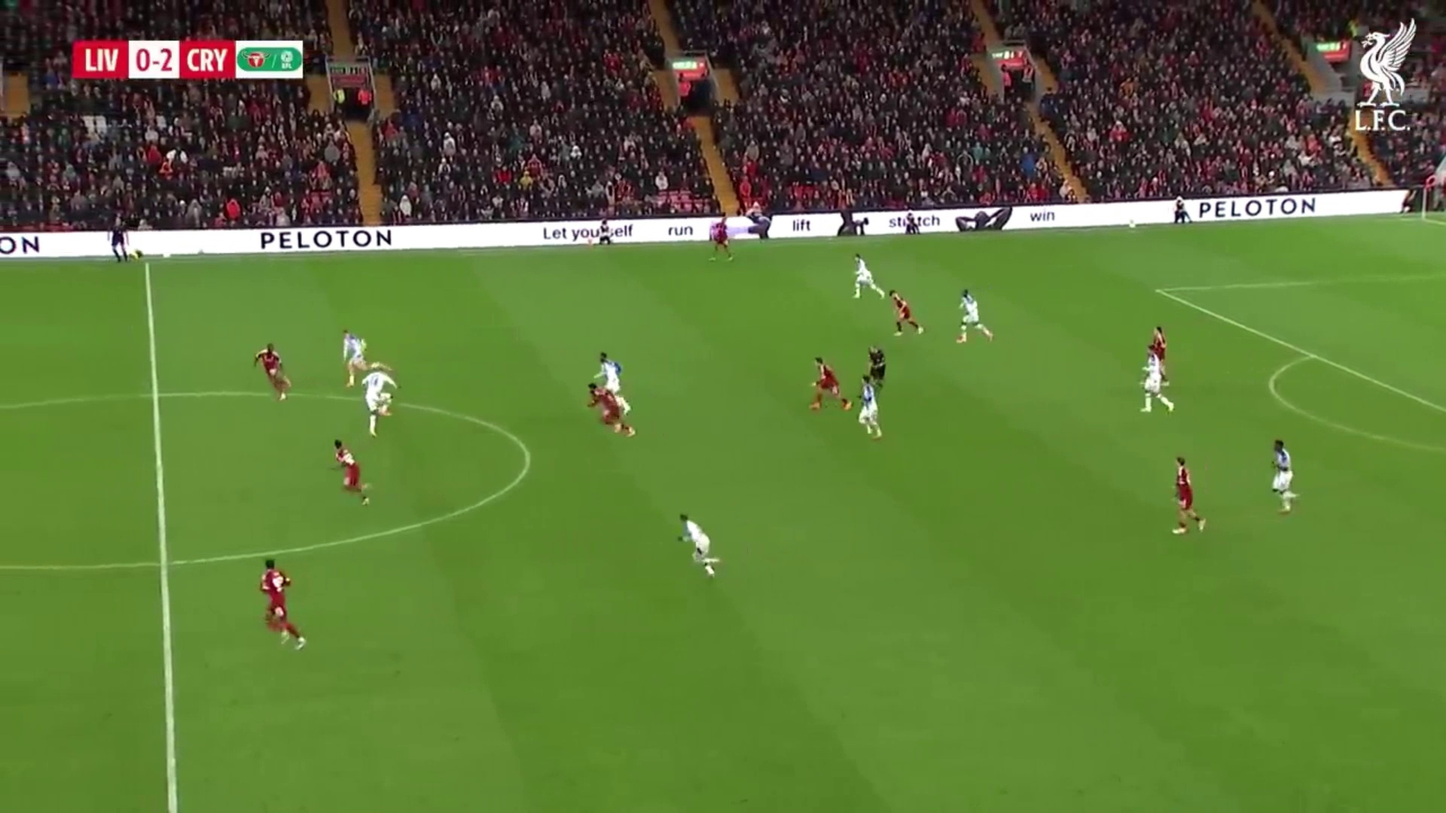player: (259, 558, 308, 650), (588, 352, 629, 432), (1139, 328, 1176, 414), (1170, 455, 1207, 537), (855, 348, 887, 441), (361, 366, 398, 439), (586, 385, 636, 436), (808, 356, 849, 413), (956, 288, 996, 345), (678, 516, 719, 570), (1269, 439, 1297, 516), (256, 344, 293, 401), (332, 439, 365, 499), (810, 354, 839, 411), (1418, 156, 1445, 216), (890, 293, 925, 338), (342, 329, 367, 389), (852, 256, 878, 299), (1175, 200, 1191, 225)
